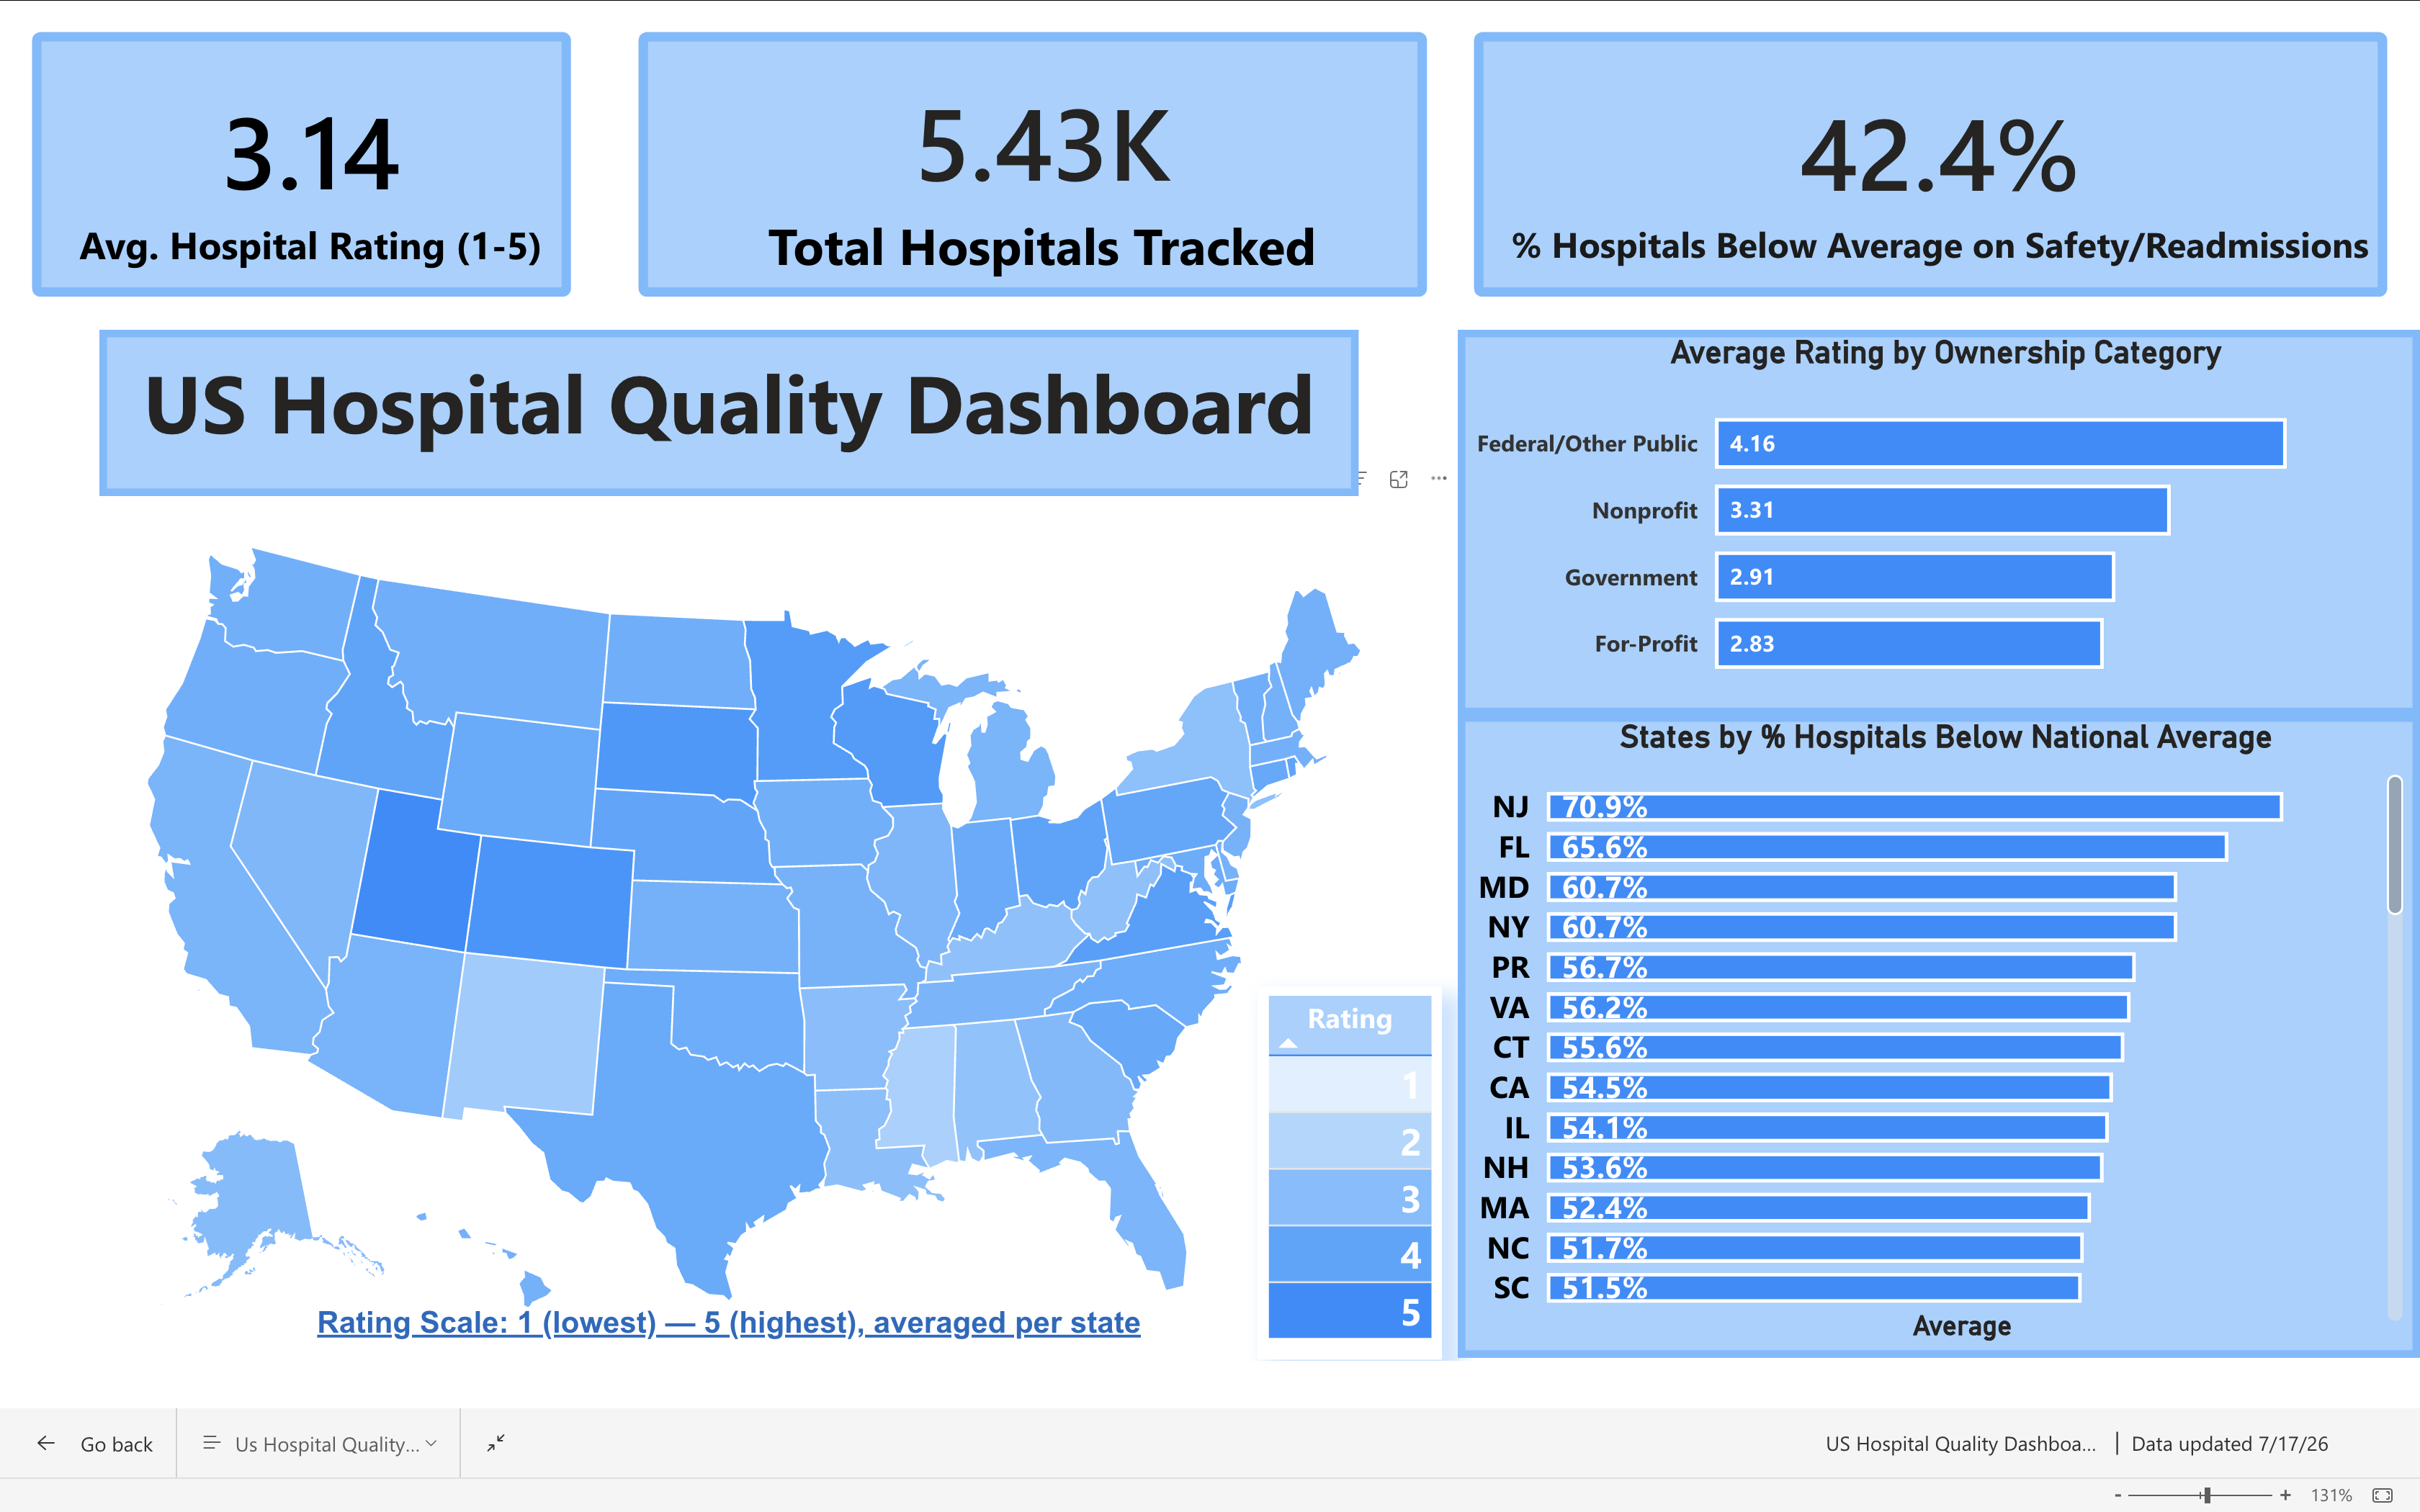

The dashboard page shown, as its layout file describes it:
{"tool":"powerbi","page":{"name":"Us Hospital Quality Dashboard","canvas":[1280,720],"ordinal":0},"visuals":[{"type":"shapeMap","title":"Hospital Quality Rating by State","fields":{"Category":["hospitals_state_summary.State"],"Value":["Avg(hospitals_state_summary.AvgRating)"]},"box":[0,262.3,771.2,457.6],"z":0},{"type":"textbox","box":[156.2,685.8,458.8,34.2],"z":1},{"type":"tableEx","fields":{"Values":["rating_scale_legend.Rating"]},"box":[665,522.2,97.6,197.7],"z":2},{"type":"cardVisual","fields":{"Data":["Avg(hospitals_state_summary.AvgRating)"]},"box":[0,0,319.7,174.5],"z":3},{"type":"cardVisual","fields":{"Data":["Avg(hospitals_state_summary.PctWithWorseMeasure)"]},"box":[762.6,0,517.4,174.5],"z":4},{"type":"cardVisual","fields":{"Data":["Sum(hospitals_state_summary.HospitalCount)"]},"box":[320.9,0,451.5,174.5],"z":5},{"type":"clusteredBarChart","title":"Average Rating by Ownership Category","fields":{"Category":["hospitals_clean 1.OwnershipCategory"],"Y":["Avg(hospitals_clean 1.OverallRating)"]},"box":[771.2,174.5,508.8,203.8],"z":6},{"type":"clusteredBarChart","title":"States by % Hospitals Below National Average","fields":{"Category":["hospitals_state_summary.State"],"Y":["Avg(hospitals_state_summary.PctWithWorseMeasure)"]},"box":[771.2,378.3,508.8,340.4],"z":7},{"type":"textbox","box":[52.5,174.5,666.2,87.9],"z":8}]}

Visuals, with their boxes on the page's 1280x720 design canvas (x1, y1, x2, y2). These are canvas units, not pixel positions in the 2420x1512 screenshot, which may show the page scaled, cropped or inside an application window:
"Hospital Quality Rating by State" shapeMap: x1=0, y1=262, x2=771, y2=720
textbox: x1=156, y1=686, x2=615, y2=720
tableEx - rating_scale_legend.Rating: x1=665, y1=522, x2=763, y2=720
cardVisual - Avg(hospitals_state_summary.AvgRating): x1=0, y1=0, x2=320, y2=174
cardVisual - Avg(hospitals_state_summary.PctWithWorseMeasure): x1=763, y1=0, x2=1280, y2=174
cardVisual - Sum(hospitals_state_summary.HospitalCount): x1=321, y1=0, x2=772, y2=174
"Average Rating by Ownership Category" clusteredBarChart: x1=771, y1=174, x2=1280, y2=378
"States by % Hospitals Below National Average" clusteredBarChart: x1=771, y1=378, x2=1280, y2=719
textbox: x1=52, y1=174, x2=719, y2=262
